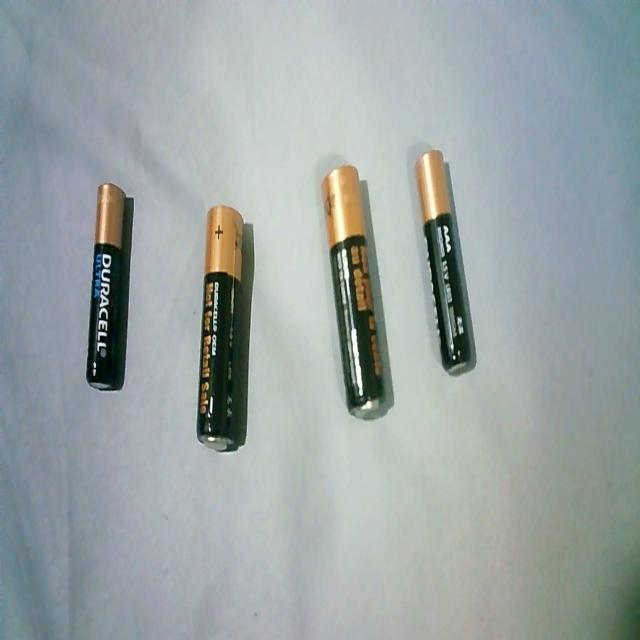AA: (316, 160, 392, 421), (190, 204, 251, 456)
AAA: (408, 148, 478, 376), (84, 181, 137, 397)
